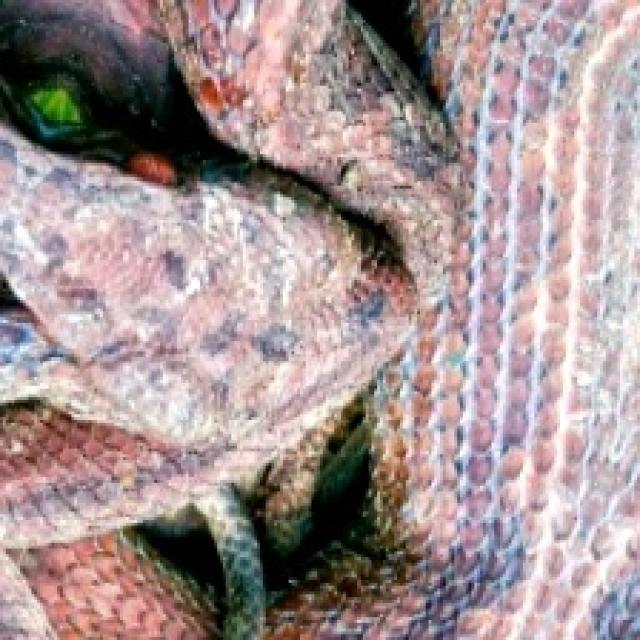philippine pitviper: (0, 0, 454, 637), (311, 0, 637, 637), (169, 0, 440, 263)
